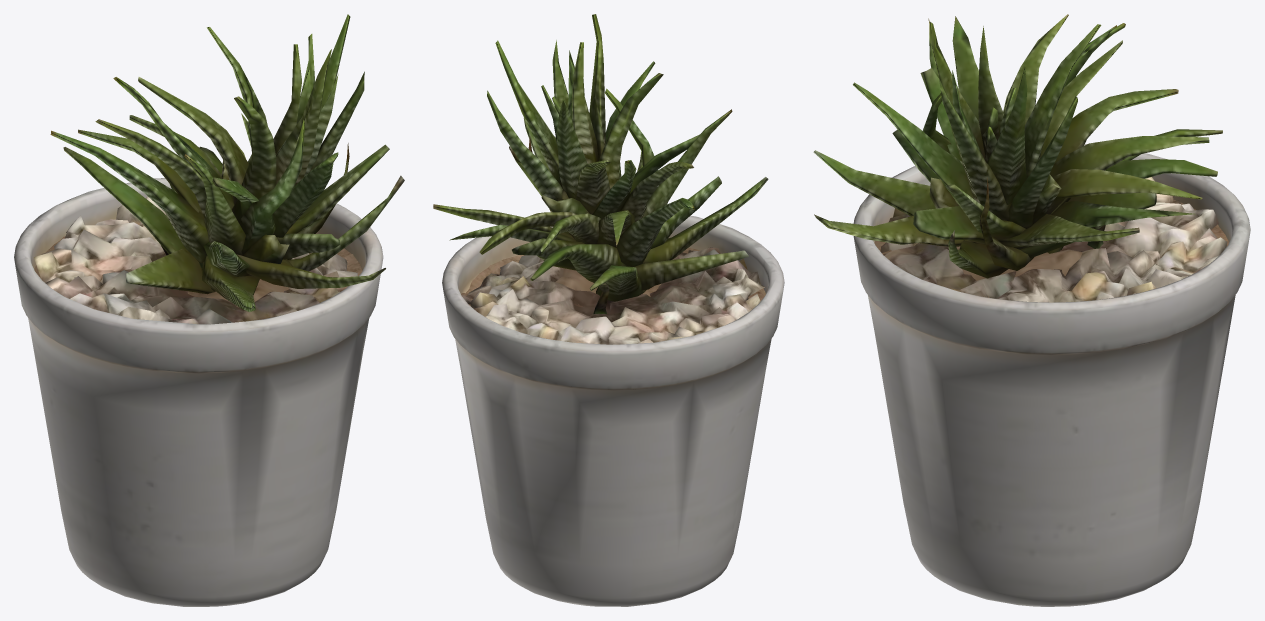
File: potted_plant_04.glb
3 views of the same model, side by side, from view 1: azimuth 30°, elevation 25°; view 2: azimuth 150°, elevation 25°; view 3: azimuth 270°, elevation 25° (orthographic). The views are drawn at different scales.
Visible parts, largest first — view 1: potted_plant_04_pot, potted_plant_04_plant, potted_plant_04_ground, potted_plant_04_dirt; view 2: potted_plant_04_pot, potted_plant_04_plant, potted_plant_04_ground, potted_plant_04_dirt; view 3: potted_plant_04_pot, potted_plant_04_plant, potted_plant_04_ground, potted_plant_04_dirt.
Boxes of the visible parts, x1=… form: potted_plant_04_pot: x1=14, y1=178, x2=383, y2=606; potted_plant_04_plant: x1=50, y1=14, x2=404, y2=311; potted_plant_04_ground: x1=34, y1=196, x2=357, y2=324; potted_plant_04_dirt: x1=34, y1=236, x2=362, y2=307; potted_plant_04_pot: x1=442, y1=215, x2=784, y2=606; potted_plant_04_plant: x1=433, y1=14, x2=768, y2=314; potted_plant_04_ground: x1=461, y1=247, x2=765, y2=344; potted_plant_04_dirt: x1=461, y1=247, x2=765, y2=306; potted_plant_04_pot: x1=853, y1=144, x2=1250, y2=606; potted_plant_04_plant: x1=813, y1=14, x2=1222, y2=278; potted_plant_04_ground: x1=880, y1=177, x2=1227, y2=302; potted_plant_04_dirt: x1=874, y1=199, x2=1228, y2=297.
Size of the model in its own units: 0.1679 by 0.2672 by 0.1845.
1 material, 1 textured.
